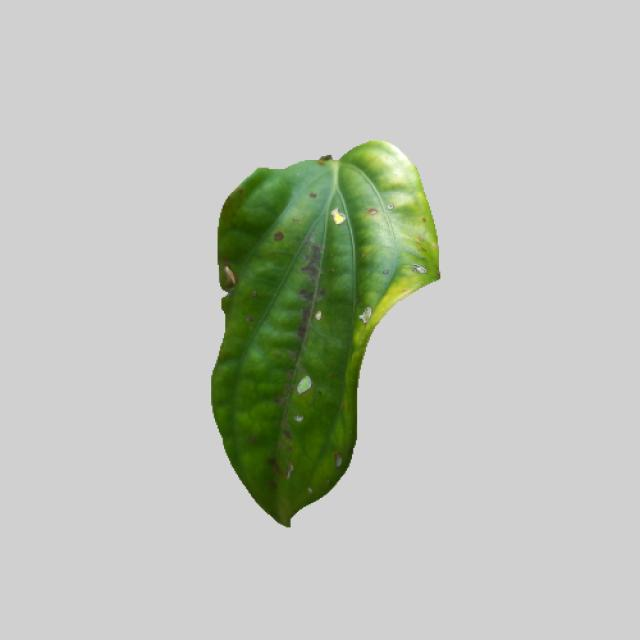yellow-mottle-virus: (189, 138, 448, 525)
